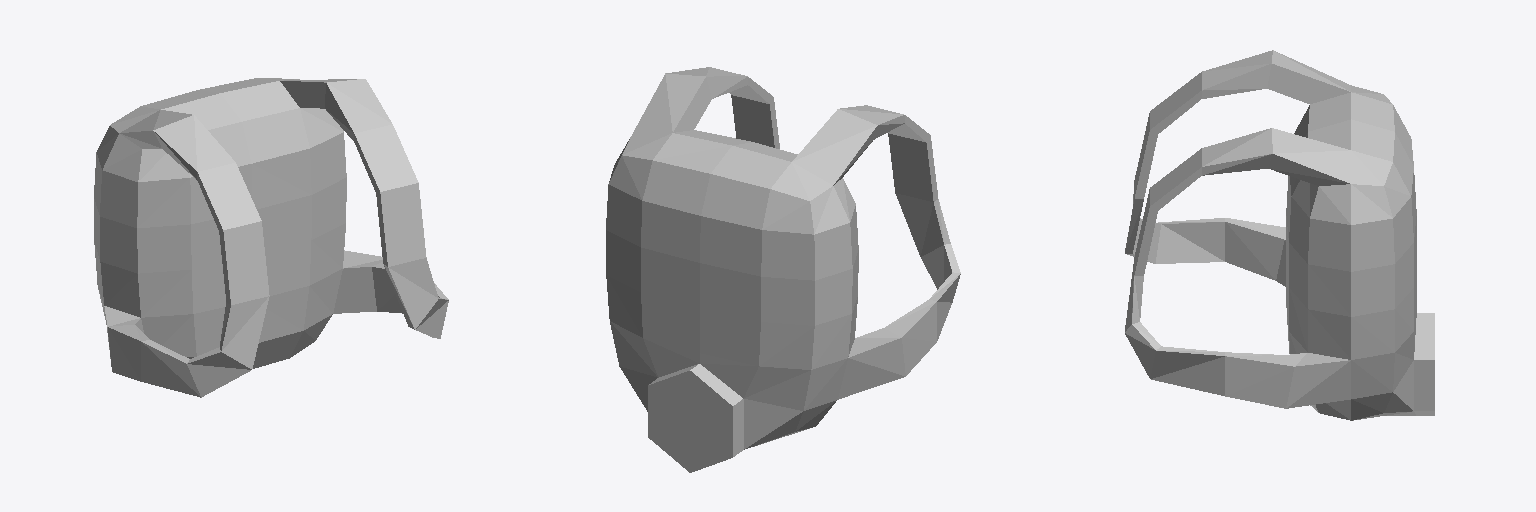
The model's file is WaterPack_Large.obj.
3 views of the same model, side by side, from view 1: azimuth 30°, elevation 25°; view 2: azimuth 150°, elevation 25°; view 3: azimuth 270°, elevation 25° (orthographic).
Visible parts, largest first — view 1: Cube.016; view 2: Cube.016; view 3: Cube.016.
Boxes of the visible parts, x1,y1,x2,y2 form: Cube.016: [94, 78, 448, 397]; Cube.016: [606, 67, 960, 472]; Cube.016: [1125, 50, 1434, 420].
Bounding box in the file's own units: 1.75 × 1.89 × 1.66.